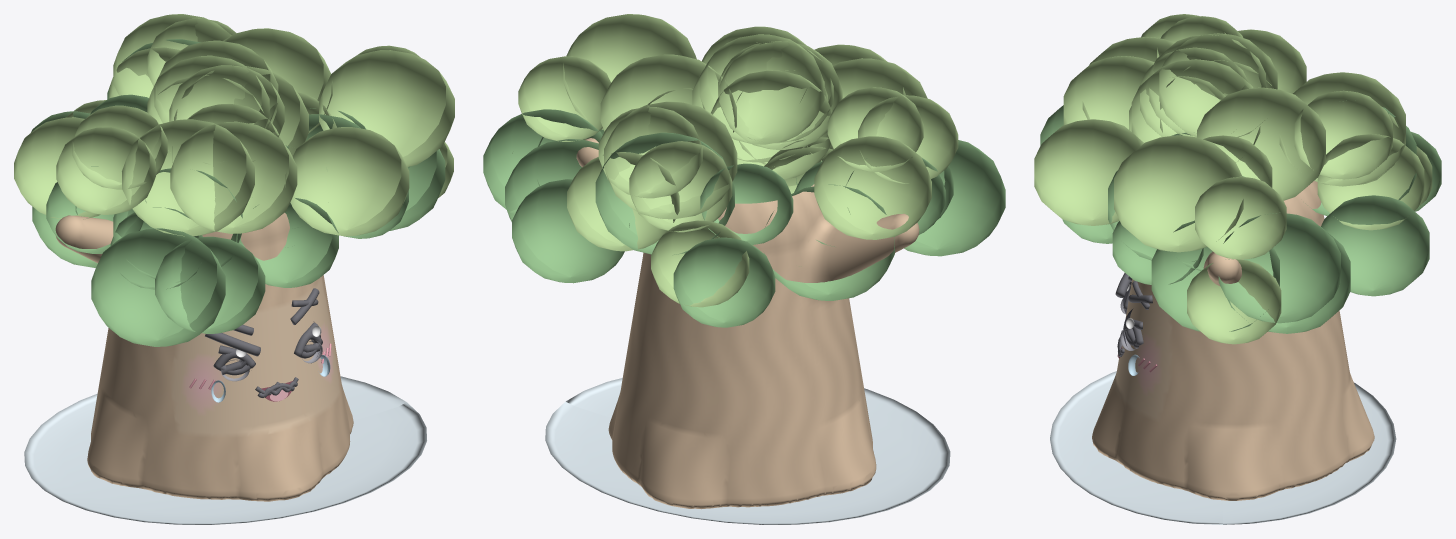
File: n_tree_slime.glb
3 views of the same model, side by side, from view 1: azimuth 30°, elevation 25°; view 2: azimuth 150°, elevation 25°; view 3: azimuth 270°, elevation 25° (orthographic). The views are drawn at different scales.
Parts seen in each view (by area): view 1: BodyMesh, face_eyes_happy, face_brow_smug; view 2: BodyMesh; view 3: BodyMesh.
Part boxes in pixels (box(x1,y1,x2,y2)): BodyMesh: box(14, 14, 454, 524); face_eyes_happy: box(213, 332, 322, 370); face_brow_smug: box(205, 333, 260, 356); BodyMesh: box(483, 14, 1005, 524); BodyMesh: box(1034, 14, 1441, 524).
Bounding box in the file's own units: 2.3 × 2.17 × 2.
